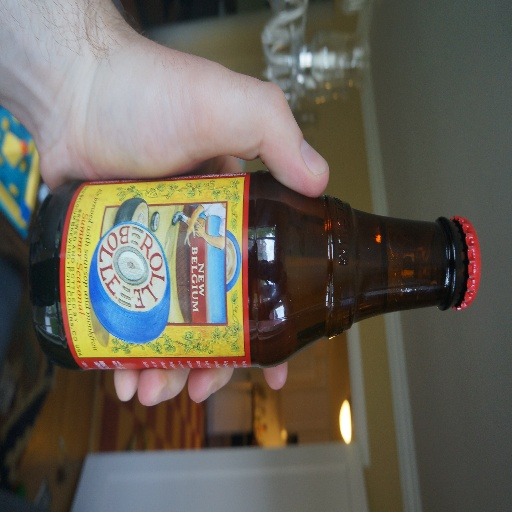hand: (35, 23, 326, 411), (183, 224, 197, 248), (192, 218, 206, 237)
